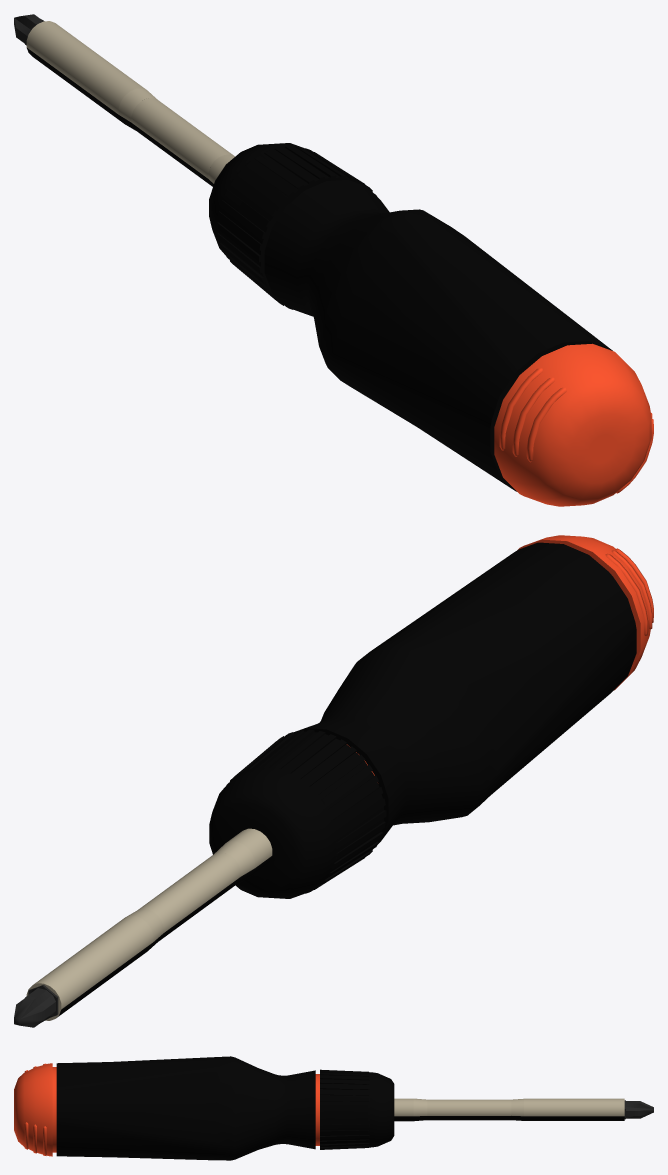
The model's file is LTTDriver.glb.
3 renders of one model, top to bottom at view 1: azimuth 30°, elevation 25°; view 2: azimuth 150°, elevation 25°; view 3: azimuth 270°, elevation 25°, orthographic. The views are drawn at different scales.
Parts seen in each view (by area): view 1: LTTDriver; view 2: LTTDriver; view 3: LTTDriver.
Boxes of the visible parts, x1,y1,x2,y2 form: LTTDriver: (14,14,653,506); LTTDriver: (14,535,653,1027); LTTDriver: (14,1056,653,1160).
Bounding box in the file's own units: 4.21 × 4.13 × 25.78.
